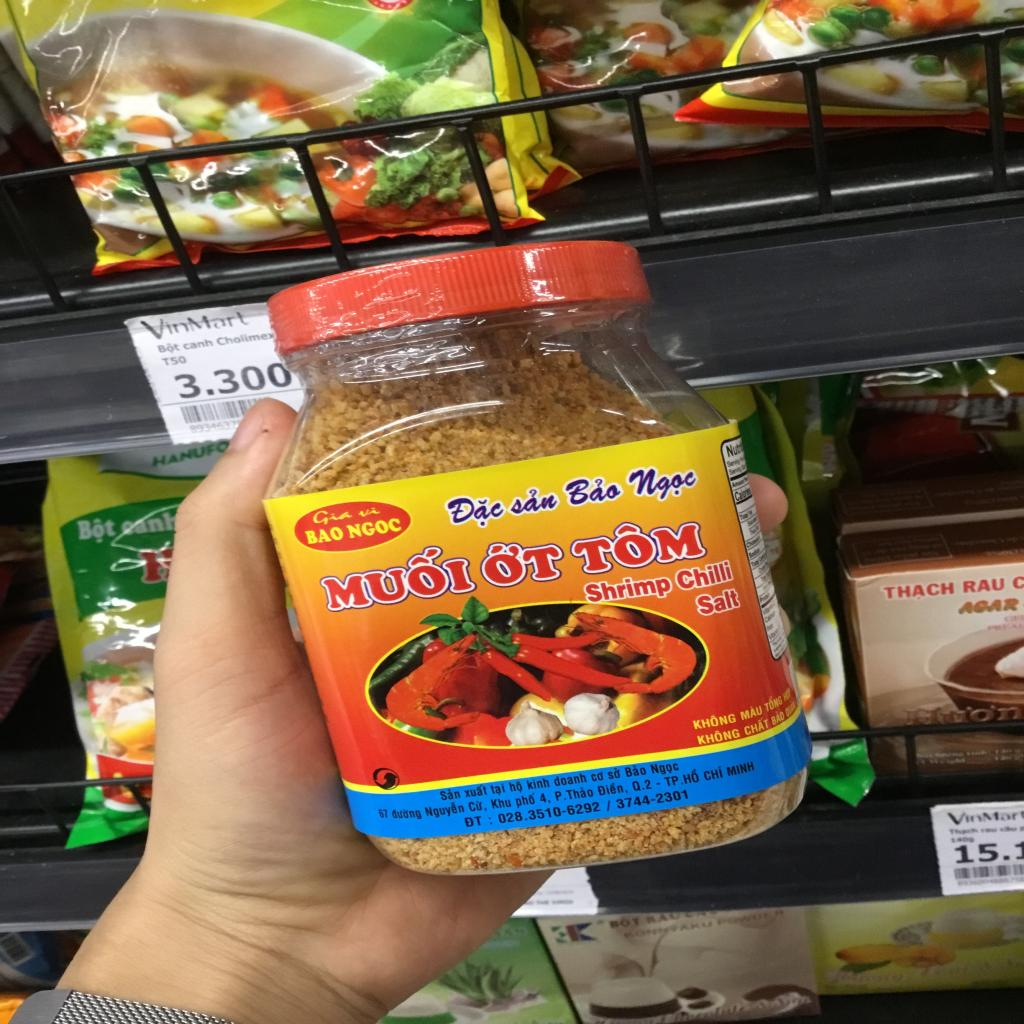text: (314, 541, 479, 614), (564, 510, 708, 579), (475, 534, 564, 592), (173, 362, 297, 400), (138, 310, 252, 341), (581, 572, 675, 608), (627, 461, 702, 506), (903, 702, 1024, 726), (444, 492, 506, 532), (151, 438, 233, 468), (497, 802, 602, 824), (563, 471, 623, 508), (672, 559, 735, 593), (507, 484, 559, 518), (954, 840, 1024, 864), (882, 582, 955, 603), (692, 588, 742, 618), (615, 789, 690, 809), (345, 517, 403, 539), (946, 809, 1022, 825), (956, 598, 1020, 616), (77, 517, 117, 544), (313, 508, 353, 529), (424, 800, 466, 820), (692, 712, 738, 730), (304, 526, 346, 545), (216, 331, 269, 346), (121, 518, 166, 535), (662, 768, 702, 787), (696, 728, 740, 745), (552, 785, 594, 802), (963, 578, 1005, 594), (189, 420, 236, 434), (552, 772, 588, 788), (743, 715, 769, 736), (597, 780, 631, 796), (644, 911, 681, 925), (649, 762, 681, 777), (726, 761, 756, 777), (762, 692, 784, 712), (182, 338, 215, 351), (739, 704, 764, 721), (392, 808, 422, 822), (701, 764, 725, 781), (733, 484, 753, 504), (514, 792, 537, 809), (156, 341, 182, 356), (463, 784, 489, 798), (438, 787, 462, 802), (526, 777, 552, 790), (624, 764, 648, 778), (724, 441, 743, 458), (630, 779, 654, 792), (161, 355, 189, 366), (769, 709, 786, 726), (358, 506, 382, 518), (467, 799, 489, 812), (784, 698, 798, 718), (489, 798, 512, 810), (462, 816, 482, 828), (489, 783, 507, 796), (508, 780, 524, 794), (606, 766, 622, 780), (780, 686, 792, 703), (1010, 576, 1024, 590), (728, 465, 744, 477), (730, 478, 746, 490), (727, 456, 742, 468), (737, 510, 751, 522), (591, 771, 604, 783), (538, 793, 552, 804), (750, 557, 760, 569), (377, 809, 388, 819), (606, 800, 612, 812), (748, 550, 755, 558), (487, 817, 493, 825)
